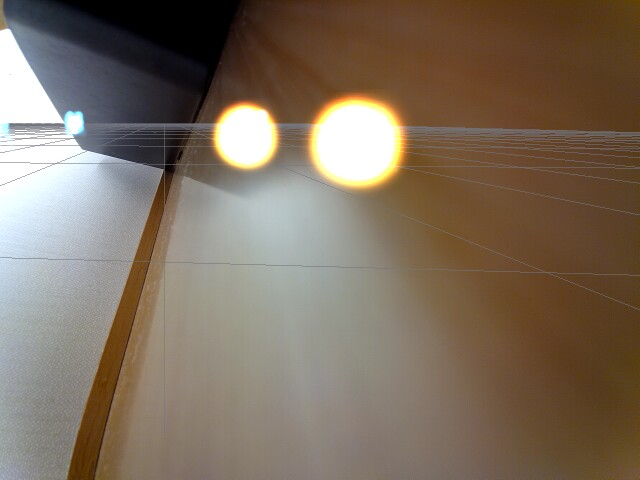firebig: (301, 92, 414, 192)
